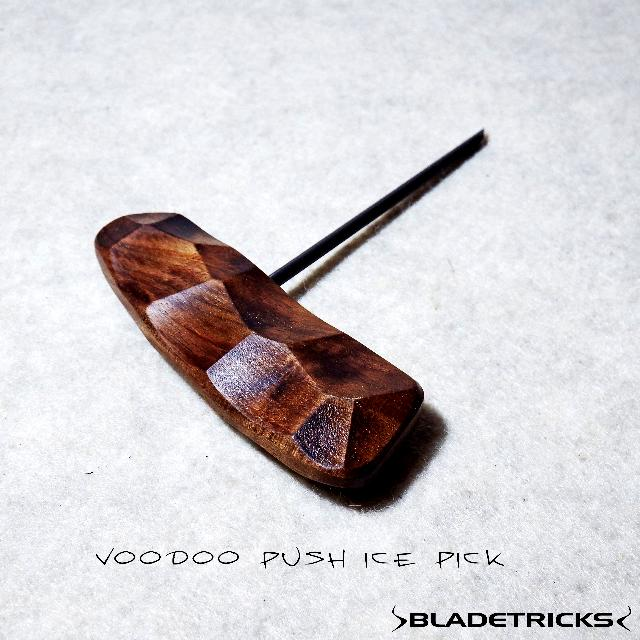ice pick: (94, 128, 486, 486)
